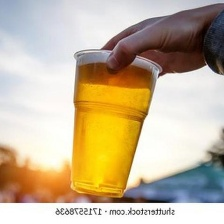glass: (57, 42, 170, 203)
